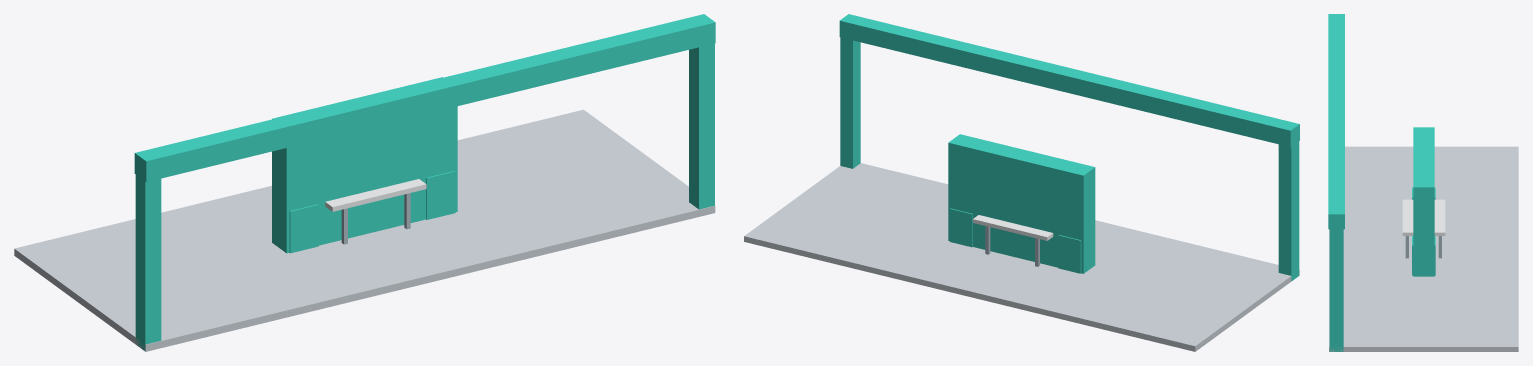
3 views of the same model, side by side, from view 1: azimuth 30°, elevation 25°; view 2: azimuth 150°, elevation 25°; view 3: azimuth 270°, elevation 25° (orthographic). The views are drawn at different scales.
Visible parts, largest first — view 1: Exhibition Booth Concept; view 2: Exhibition Booth Concept; view 3: Exhibition Booth Concept.
Part boxes in pixels (x1=…): Exhibition Booth Concept: x1=14, y1=14, x2=715, y2=351; Exhibition Booth Concept: x1=744, y1=14, x2=1299, y2=351; Exhibition Booth Concept: x1=1328, y1=14, x2=1518, y2=351.
Size of the model in its own units: 10 by 3.2 by 4.02.
